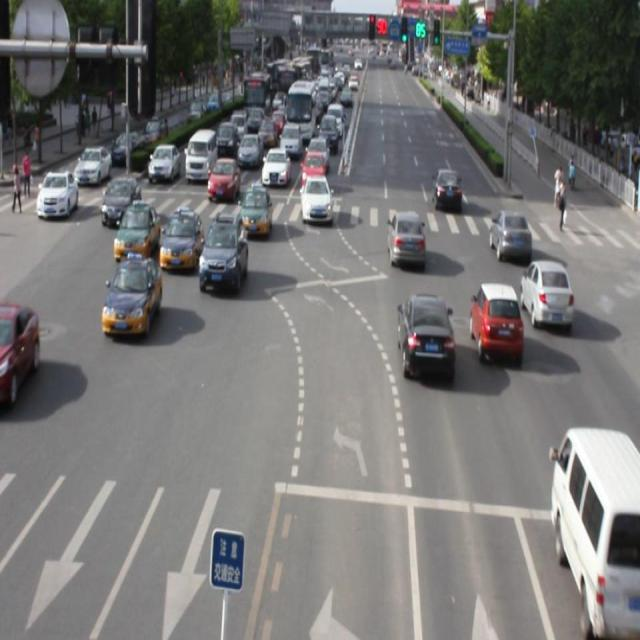car: (102, 254, 161, 340), (396, 295, 454, 381), (470, 282, 521, 363), (198, 213, 246, 293), (520, 260, 572, 327), (113, 200, 160, 267), (158, 210, 203, 274), (388, 211, 426, 268), (491, 210, 531, 261), (240, 186, 272, 238), (299, 175, 332, 224)
truck: (551, 427, 640, 633)
